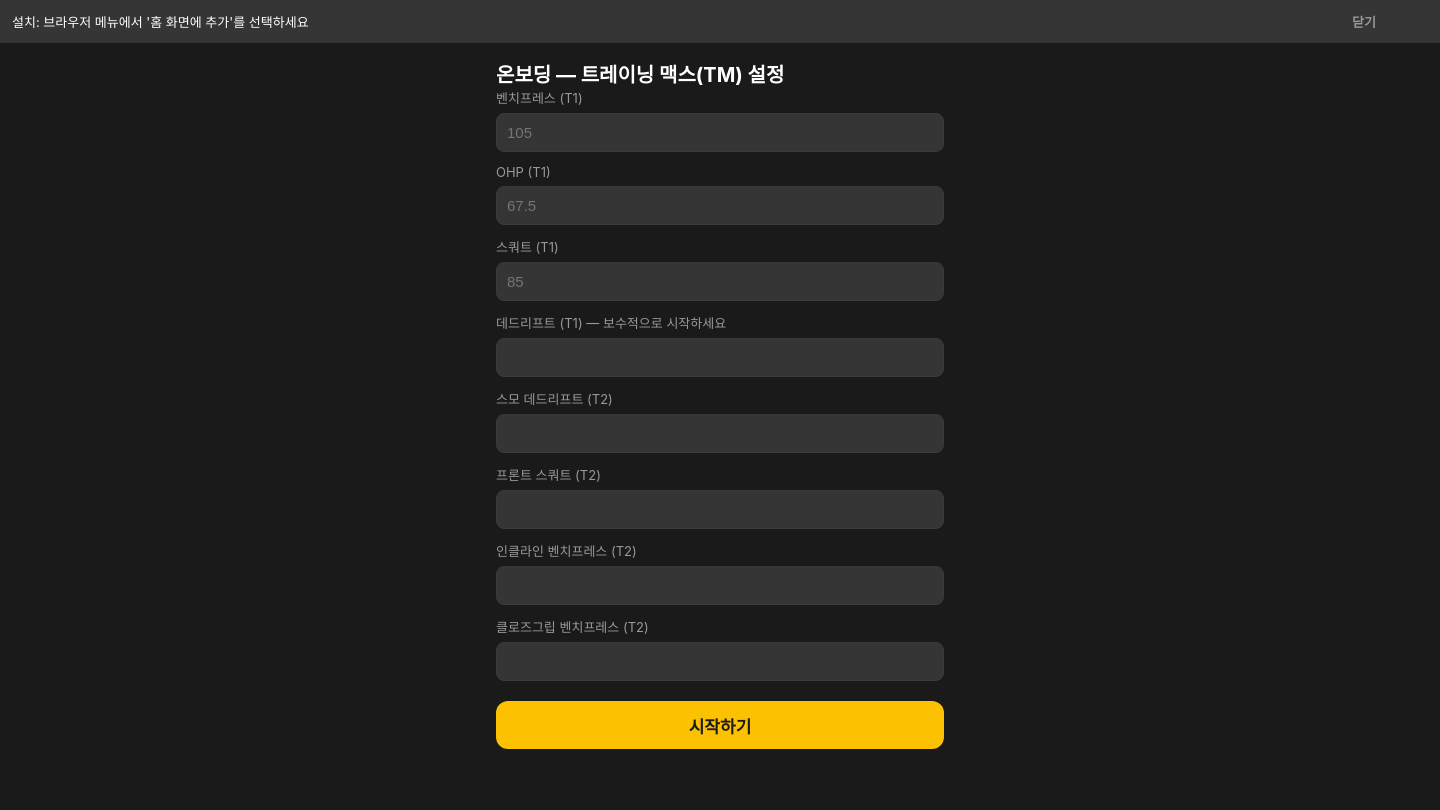
Test: App › ⑤ 설치 배너 닫기 → 세션(sessionStorage) 내 재표시 안 됨
Click the button with aria-label "배너 닫기": (1364, 22) [1344, 8, 1384, 35]
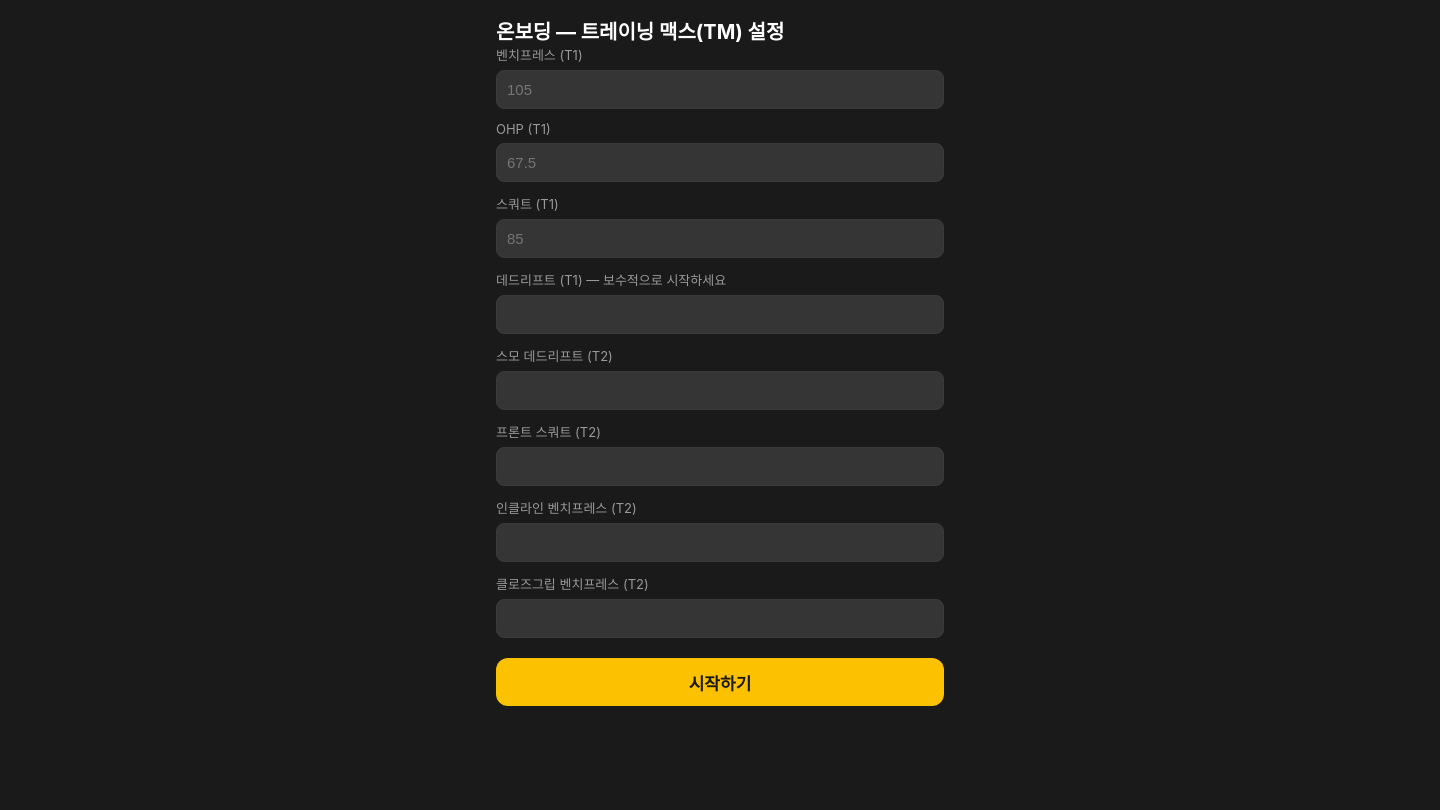
Check: the message with test id "install-banner" is gone
